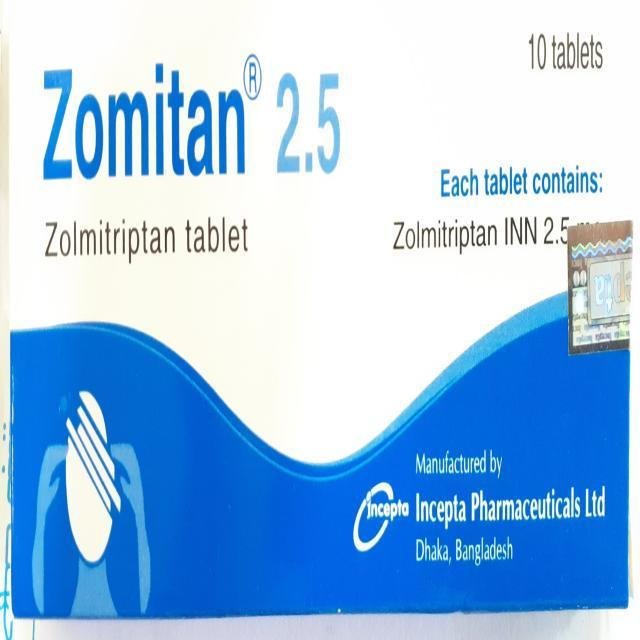drug-name: (34, 55, 350, 182)
